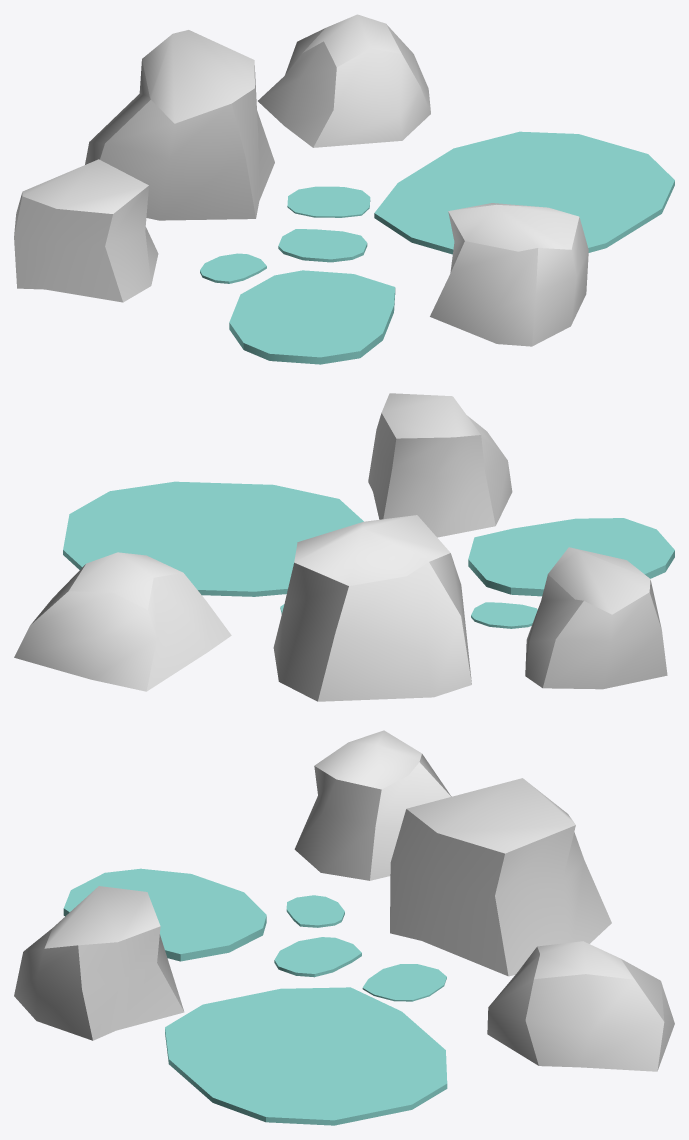
Rendered from Polar Kigndom.FBX.
3 renders of one model, top to bottom at view 1: azimuth 30°, elevation 25°; view 2: azimuth 150°, elevation 25°; view 3: azimuth 270°, elevation 25°, orthographic. The views are drawn at different scales.
Visible parts, largest first — view 1: Box001, Box004, Box003, Box002, Box005; view 2: Box001, Box004, Box005, Box002, Box003; view 3: Box001, Box004, Box005, Box003, Box002.
Boxes of the visible parts, <box> form: Box001: <box>200,131,674,364</box>; Box004: <box>85,30,274,220</box>; Box003: <box>430,203,588,346</box>; Box002: <box>14,159,158,302</box>; Box005: <box>258,14,430,147</box>; Box001: <box>63,481,674,628</box>; Box004: <box>273,515,471,701</box>; Box005: <box>14,552,231,691</box>; Box002: <box>525,547,667,689</box>; Box003: <box>368,393,512,537</box>; Box001: <box>63,868,447,1125</box>; Box004: <box>390,778,611,976</box>; Box005: <box>487,941,674,1071</box>; Box003: <box>14,886,184,1040</box>; Box002: <box>294,730,451,880</box>.
Size of the model in its own units: 12.5 by 3.14 by 11.38.
